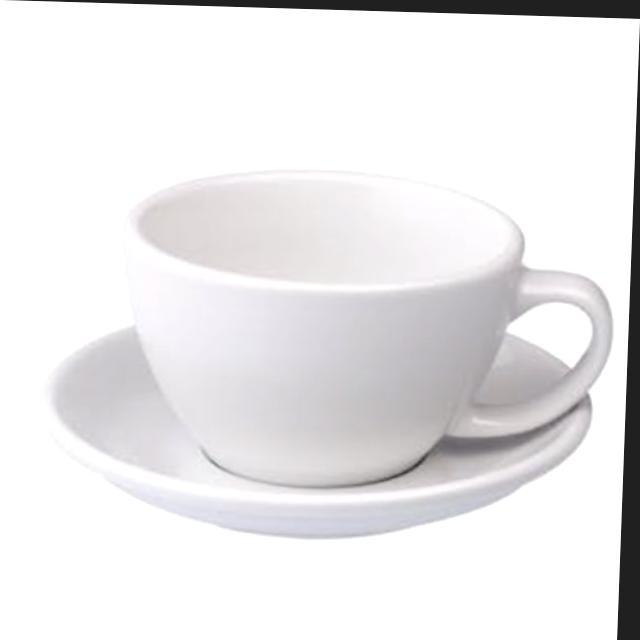cup: (31, 154, 624, 554)
